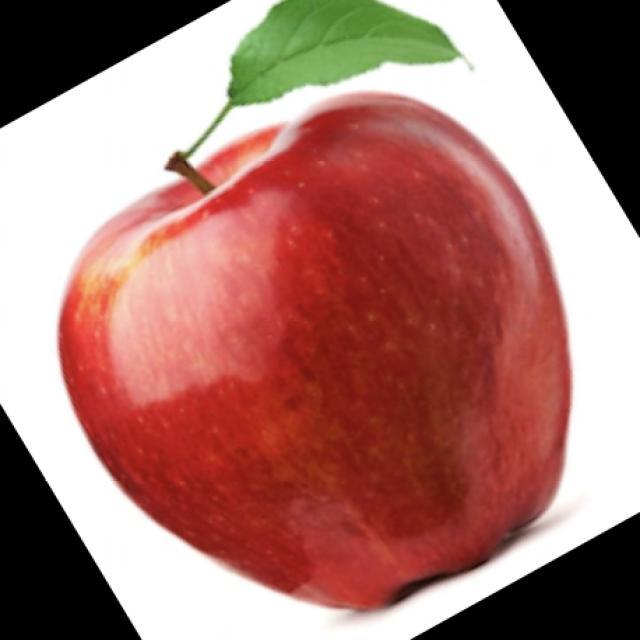Fresh Apple: (70, 107, 580, 603)
